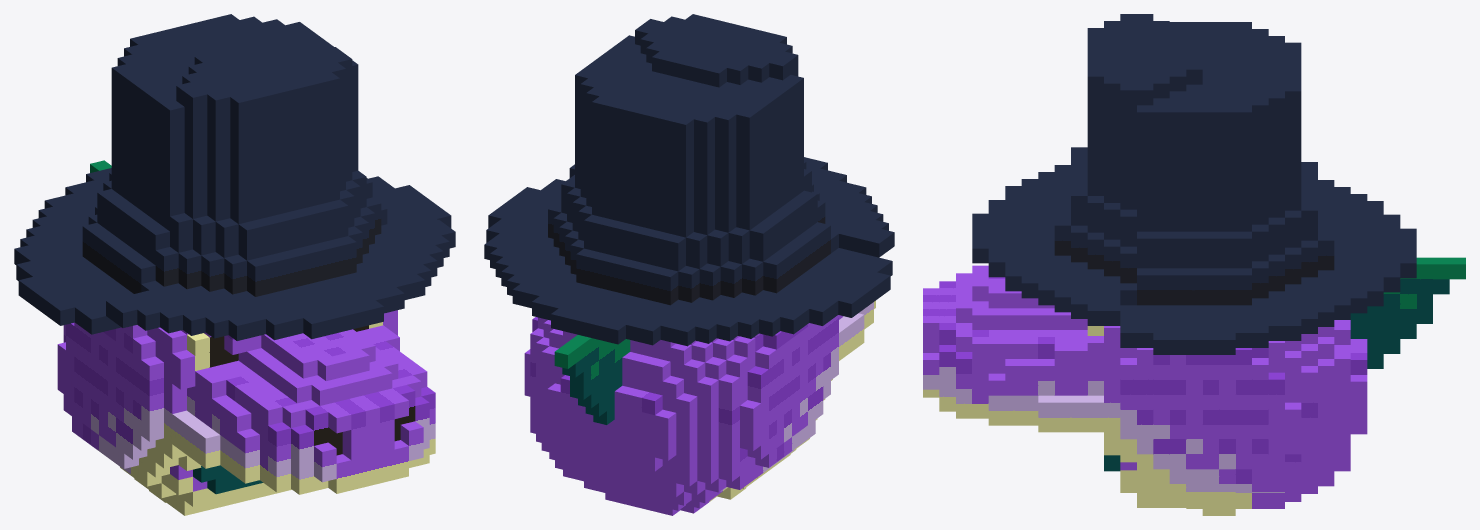
Rendered from top hat_rainbow shades.gltf.
3 renders of one model, left to right at view 1: azimuth 30°, elevation 25°; view 2: azimuth 150°, elevation 25°; view 3: azimuth 270°, elevation 25°, orthographic. The views are drawn at different scales.
Parts seen in each view (by area): view 1: C53_H_TopH_CoolD_3D_RBShade-Mesh; view 2: C53_H_TopH_CoolD_3D_RBShade-Mesh; view 3: C53_H_TopH_CoolD_3D_RBShade-Mesh.
Part boxes in pixels (x1=…): C53_H_TopH_CoolD_3D_RBShade-Mesh: x1=14, y1=14, x2=455, y2=515; C53_H_TopH_CoolD_3D_RBShade-Mesh: x1=484, y1=14, x2=894, y2=515; C53_H_TopH_CoolD_3D_RBShade-Mesh: x1=923, y1=14, x2=1465, y2=515.
Bounding box in the file's own units: 27 × 29 × 33.
Materials: 1 (1 with a texture image).
